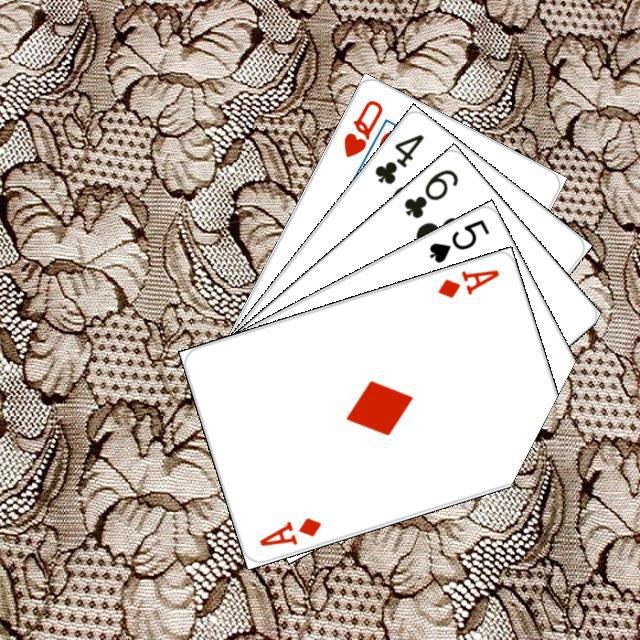4c: (369, 129, 426, 187)
5s: (424, 214, 491, 265)
6c: (399, 164, 461, 221)
Ad: (432, 264, 502, 300), (254, 512, 323, 548)
Qh: (338, 94, 385, 160)
